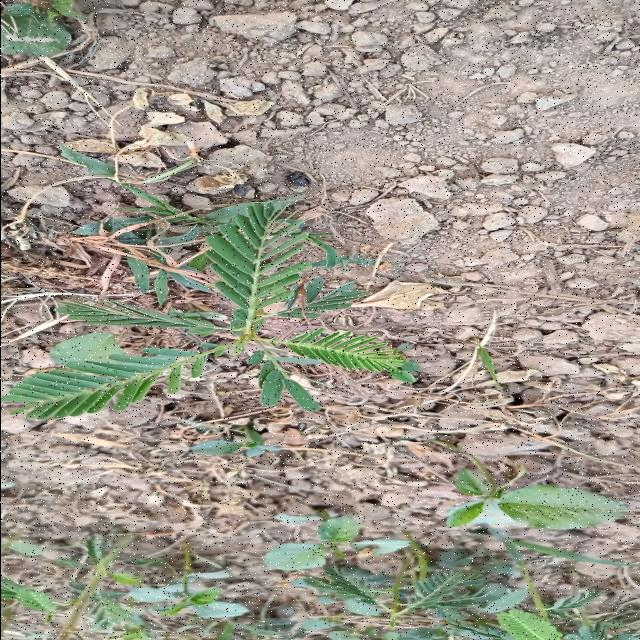plant: (3, 202, 416, 420)
